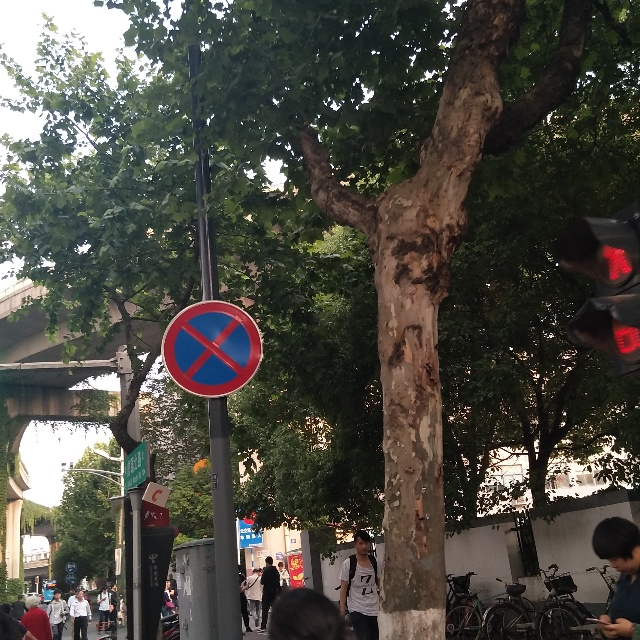stop: (164, 309, 259, 384)
